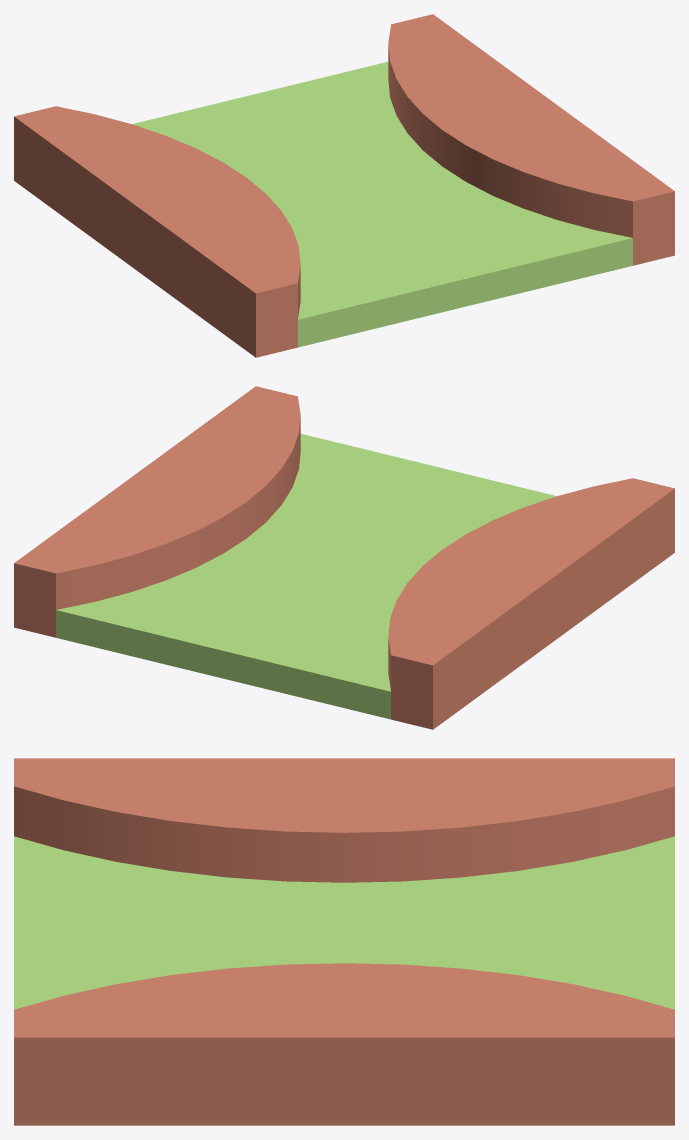
File: Narrow_round_01.glb
3 renders of one model, top to bottom at view 1: azimuth 30°, elevation 25°; view 2: azimuth 150°, elevation 25°; view 3: azimuth 270°, elevation 25°, orthographic. The views are drawn at different scales.
Parts seen in each view (by area): view 1: Mesh1 Narrow_round Model; view 2: Mesh1 Narrow_round Model; view 3: Mesh1 Narrow_round Model.
Boxes of the visible parts, left/top/right/bottom form: Mesh1 Narrow_round Model: left=14, top=14, right=674, bottom=357; Mesh1 Narrow_round Model: left=14, top=386, right=674, bottom=729; Mesh1 Narrow_round Model: left=14, top=758, right=674, bottom=1125.
Size of the model in its own units: 3 by 0.44 by 3.
